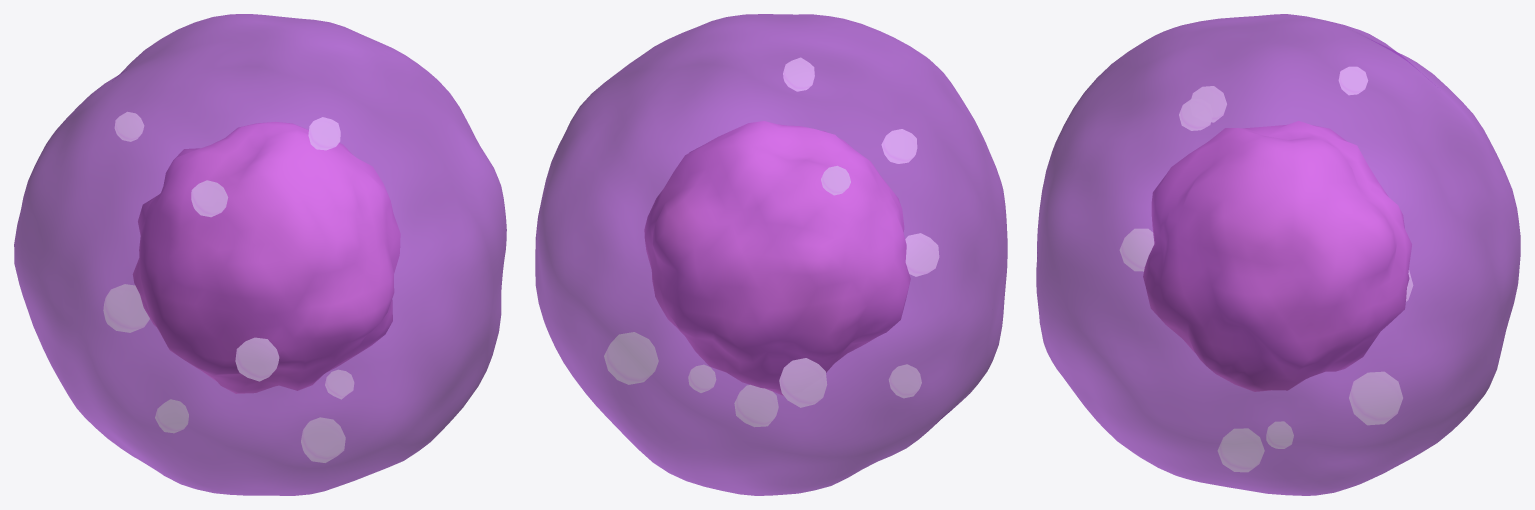
Rendered from SM_EnemyVenom.fbx.
3 renders of one model, left to right at view 1: azimuth 30°, elevation 25°; view 2: azimuth 150°, elevation 25°; view 3: azimuth 270°, elevation 25°, orthographic. The views are drawn at different scales.
Visible parts, largest first — view 1: SM_EnemyVenom; view 2: SM_EnemyVenom; view 3: SM_EnemyVenom.
Boxes of the visible parts, x1,y1,x2,y2 form: SM_EnemyVenom: (14,14,506,495); SM_EnemyVenom: (535,14,1007,495); SM_EnemyVenom: (1036,14,1520,495).
Size of the model in its own units: 98.66 by 101 by 100.
